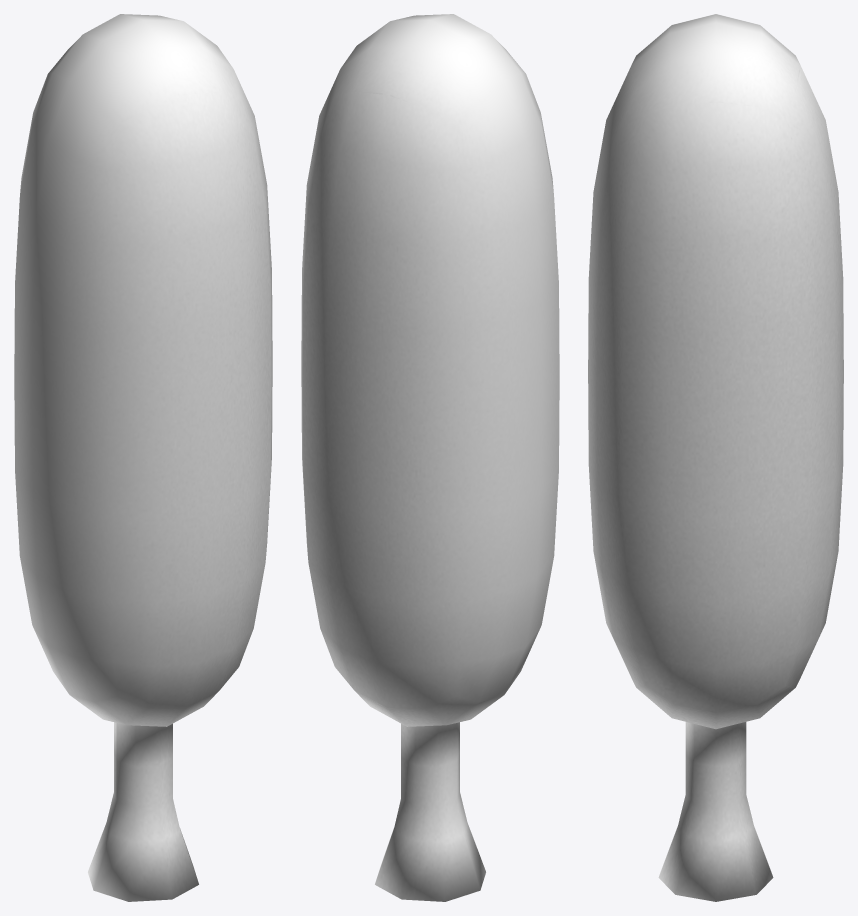
Rendered from tree_corndog_00.obj.
3 views of the same model, side by side, from view 1: azimuth 30°, elevation 25°; view 2: azimuth 150°, elevation 25°; view 3: azimuth 270°, elevation 25° (orthographic).
Size of the model in its own units: 0.9396 by 3.46 by 0.9396.
